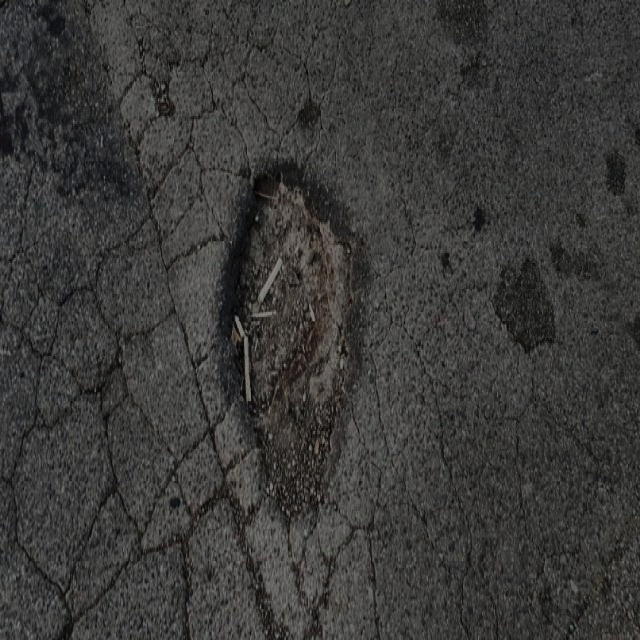Pothole: (216, 152, 364, 527)
